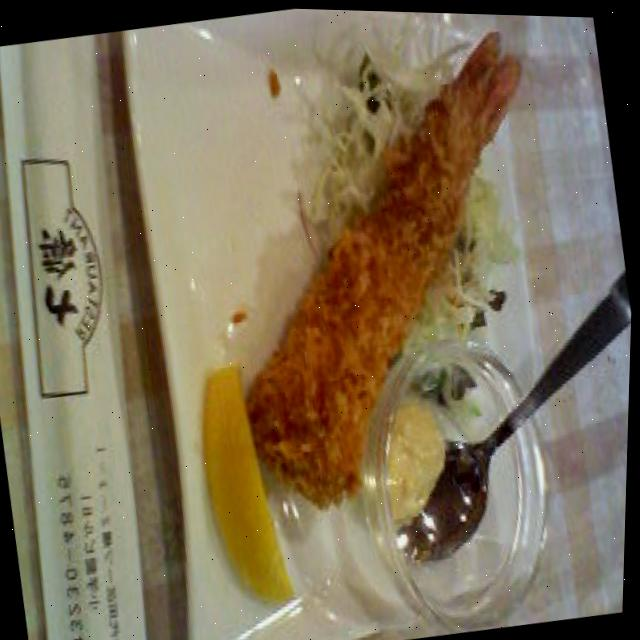炸货点心: (164, 4, 607, 545)
熟制海鲜: (164, 4, 607, 545)
